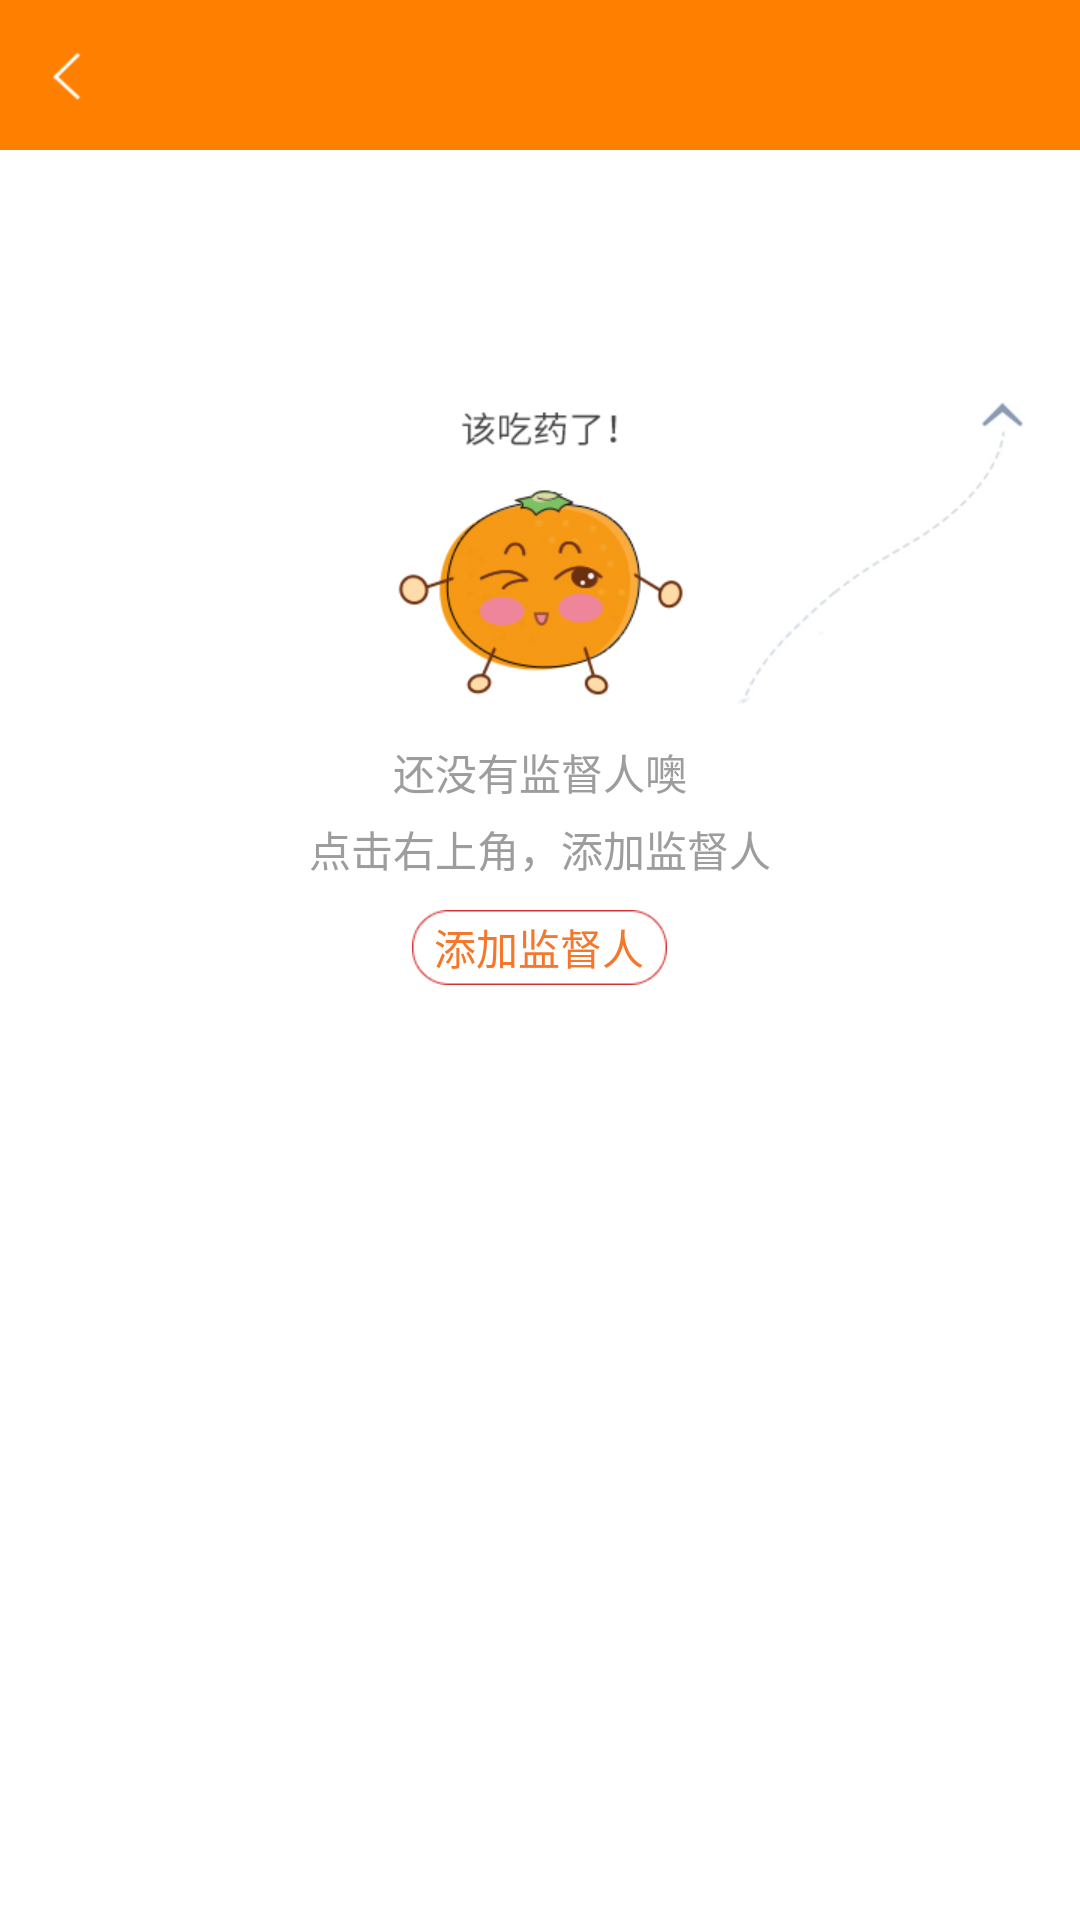

Locate icon controls on the screen. Image size 1080*1920, boxes as (x1, y1, x2, y2).
title back: (53, 52, 81, 100)
